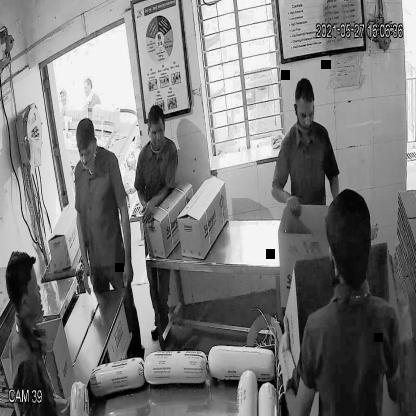no_goggles: (294, 100, 318, 124), (76, 144, 94, 164)
